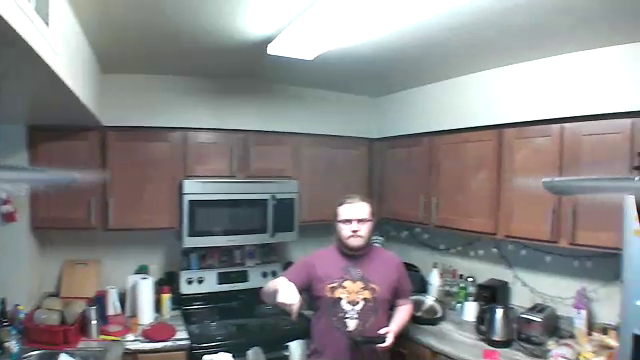down: (274, 273, 301, 322)
